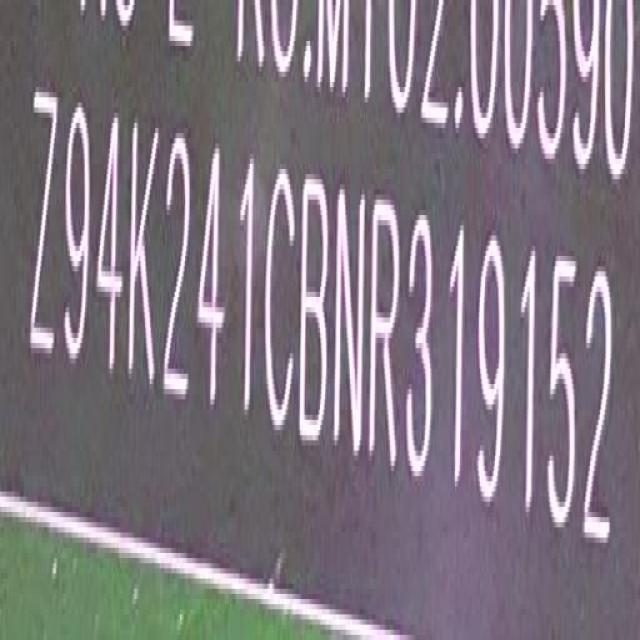1: (445, 218, 468, 497), (237, 152, 257, 421), (520, 240, 538, 524)
2: (582, 250, 614, 542), (164, 124, 193, 406)
3: (408, 199, 435, 486)
4: (97, 99, 126, 383), (198, 139, 226, 414)
5: (548, 243, 576, 532)
9: (476, 237, 506, 513), (64, 95, 92, 377)
B: (301, 169, 331, 449)
C: (266, 163, 294, 437)
K: (132, 114, 162, 403)
N: (336, 180, 365, 459)
R: (371, 190, 400, 470)
Z: (30, 80, 59, 367)
